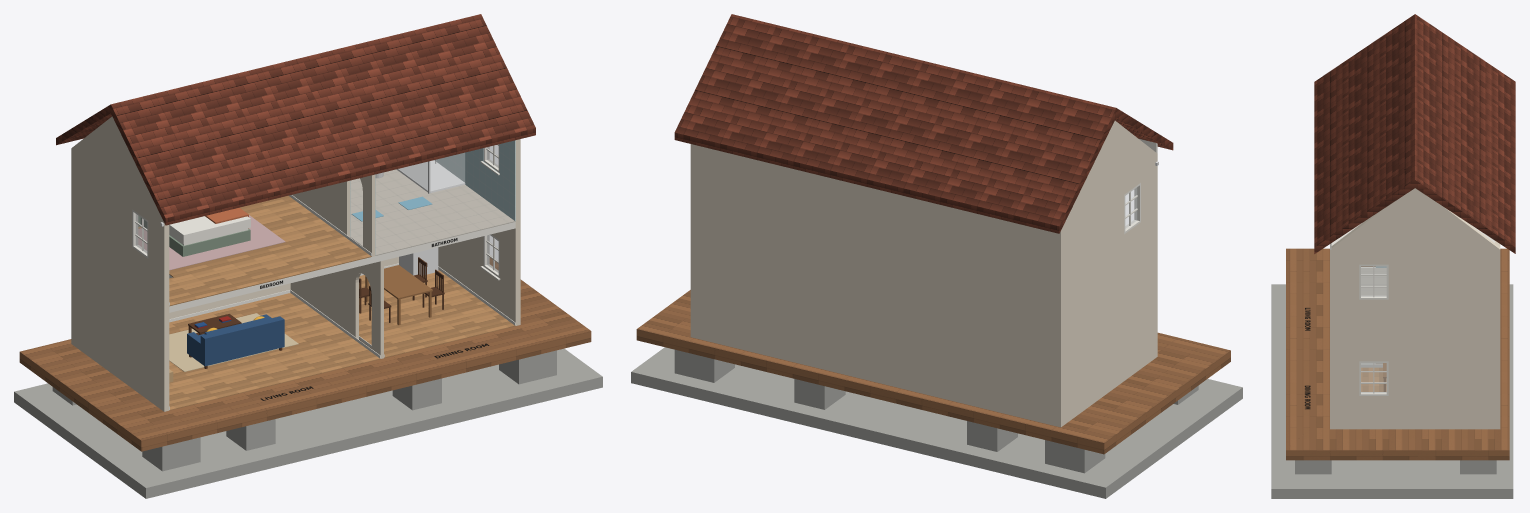
The model's file is smart_home.glb.
3 renders of one model, left to right at view 1: azimuth 30°, elevation 25°; view 2: azimuth 150°, elevation 25°; view 3: azimuth 270°, elevation 25°, orthographic. The views are drawn at different scales.
Parts seen in each view (by area): view 1: Roof, Deck_Platform, Base_Slab, Wall_Left_3, Living_Floor, Bedroom_Floor, Bathroom_Floor, Dining_Floor, Wall_Left_0, Gable_L, Partition_Ground_Back, Wall_Right_0 (+23 smaller); view 2: Wall_Back, Roof, Base_Slab, Deck_Platform, Wall_Left_3, Wall_Left_0, Gable_L, Wall_Left_1, Pier_3_1, Pier_0_1, Wall_Right_4, Pier_2_1 (+1 smaller); view 3: Roof, Wall_Right_4, Deck_Platform, Base_Slab, Gable_R, Wall_Right_0, Wall_Right_2, Wall_Right_1, Window_Bathroom_Glass, Window_Dining_Glass, Bathroom_Floor, Pier_3_0 (+3 smaller).
Boxes of the visible parts, box(x1,y1,x2,y2) form: Roof: box(56, 14, 535, 225); Deck_Platform: box(19, 257, 591, 451); Base_Slab: box(14, 348, 602, 498); Wall_Left_3: box(71, 148, 132, 387); Living_Floor: box(169, 293, 380, 410); Bedroom_Floor: box(138, 195, 371, 298); Bathroom_Floor: box(350, 169, 515, 255); Dining_Floor: box(359, 270, 515, 358); Wall_Left_0: box(148, 205, 169, 411); Gable_L: box(71, 116, 158, 211); Partition_Ground_Back: box(290, 267, 358, 339); Wall_Right_0: box(499, 139, 520, 325); Wall_Back: box(696, 145, 1055, 425); Roof: box(674, 14, 1173, 233); Base_Slab: box(631, 347, 1242, 498); Deck_Platform: box(636, 290, 1230, 454); Wall_Left_3: box(1055, 178, 1124, 427); Wall_Left_0: box(1141, 154, 1157, 368); Gable_L: box(1066, 120, 1157, 220); Wall_Left_1: box(1124, 222, 1140, 380); Pier_3_1: box(674, 349, 734, 382); Pier_0_1: box(1045, 440, 1105, 473); Wall_Right_4: box(690, 144, 695, 338); Pier_2_1: box(794, 379, 845, 409); Roof: box(1314, 14, 1515, 253); Wall_Right_4: box(1388, 250, 1500, 429); Deck_Platform: box(1286, 248, 1509, 460); Base_Slab: box(1271, 284, 1513, 498); Gable_R: box(1331, 188, 1500, 249); Wall_Right_0: box(1330, 250, 1359, 429); Wall_Right_2: box(1359, 299, 1388, 361); Wall_Right_1: box(1359, 396, 1388, 429); Window_Bathroom_Glass: box(1361, 266, 1386, 296); Window_Dining_Glass: box(1361, 363, 1386, 392); Bathroom_Floor: box(1361, 268, 1386, 295); Pier_3_0: box(1295, 460, 1331, 474).
Size of the model in its own units: 13.2 by 9.02 by 6.67.
35 materials, 9 textured.
